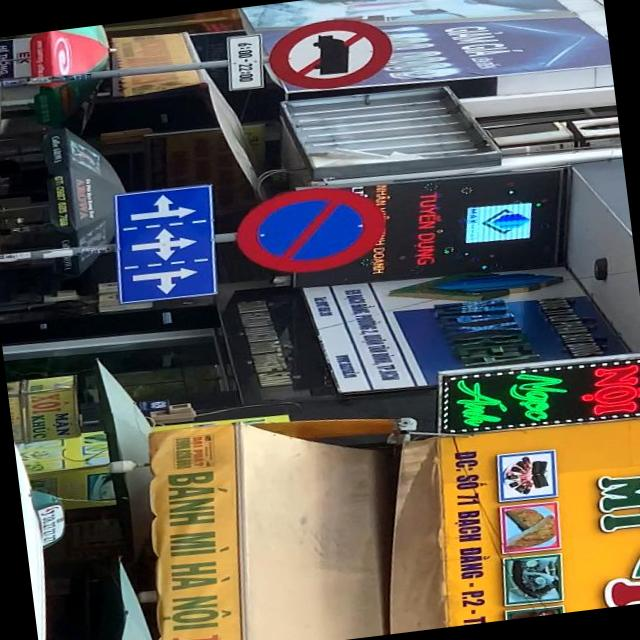P-131a: (230, 179, 392, 280)
